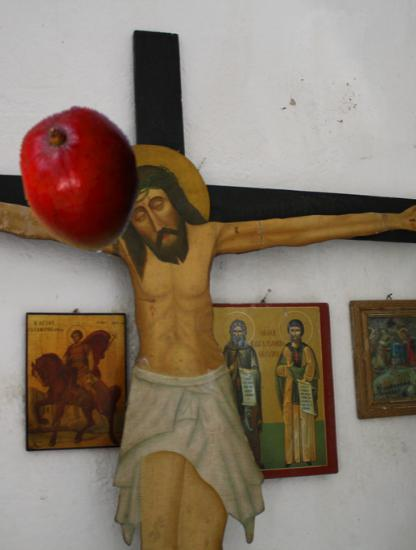Mango: (6, 105, 156, 255)
